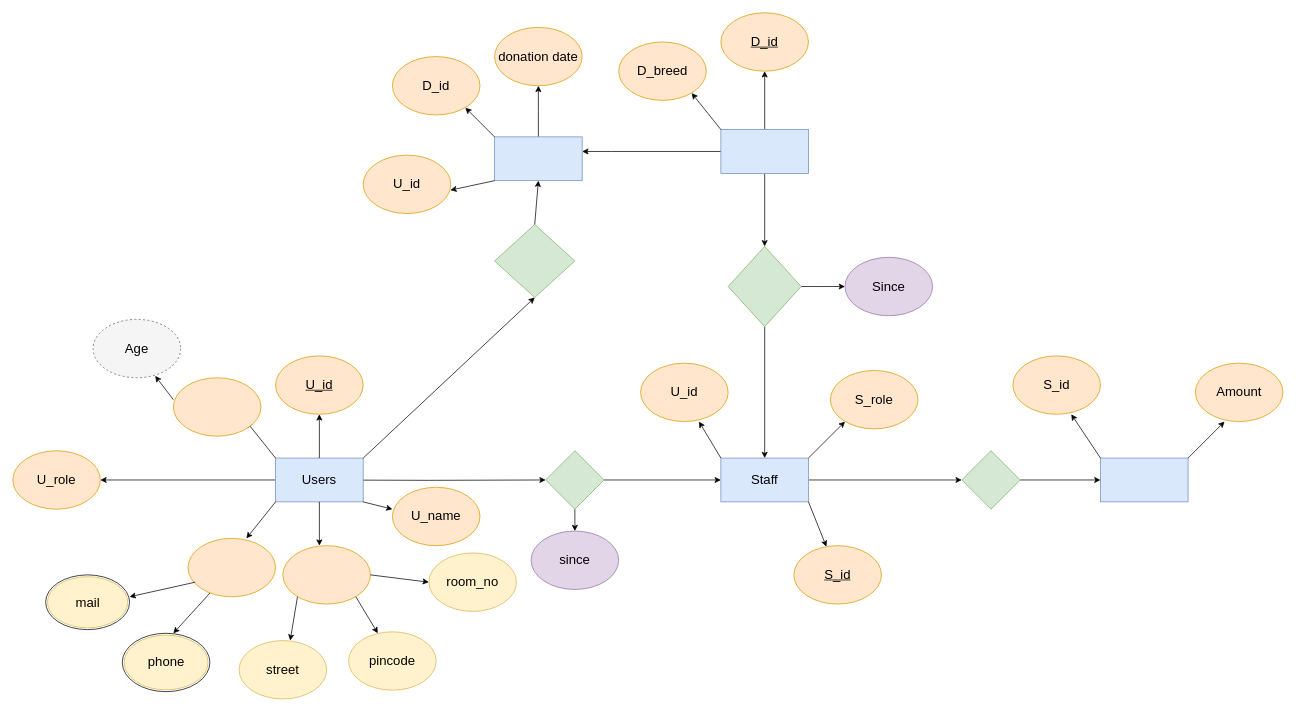
This 1296x712 diagram has some shape labels left out. The shapes that lost their labels are listed below. From the top down, each one's centre as x and y in pixels, then its label:
the point at 538,158: Donor
the point at 764,151: Dog
the point at 534,260: Donated by
the point at 764,286: Cared by
the point at 217,406: U_dob
the point at 574,479: works
the point at 990,479: has
the point at 1144,479: Salary
the point at 231,567: U_contact
the point at 326,574: U_address
